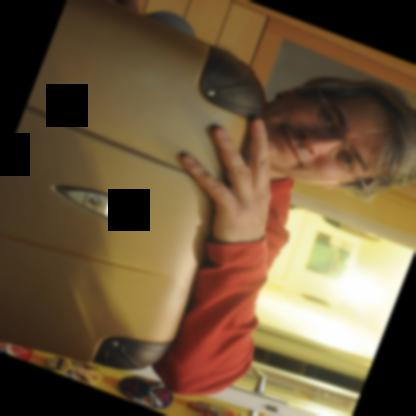suitcase: (0, 0, 265, 370)
